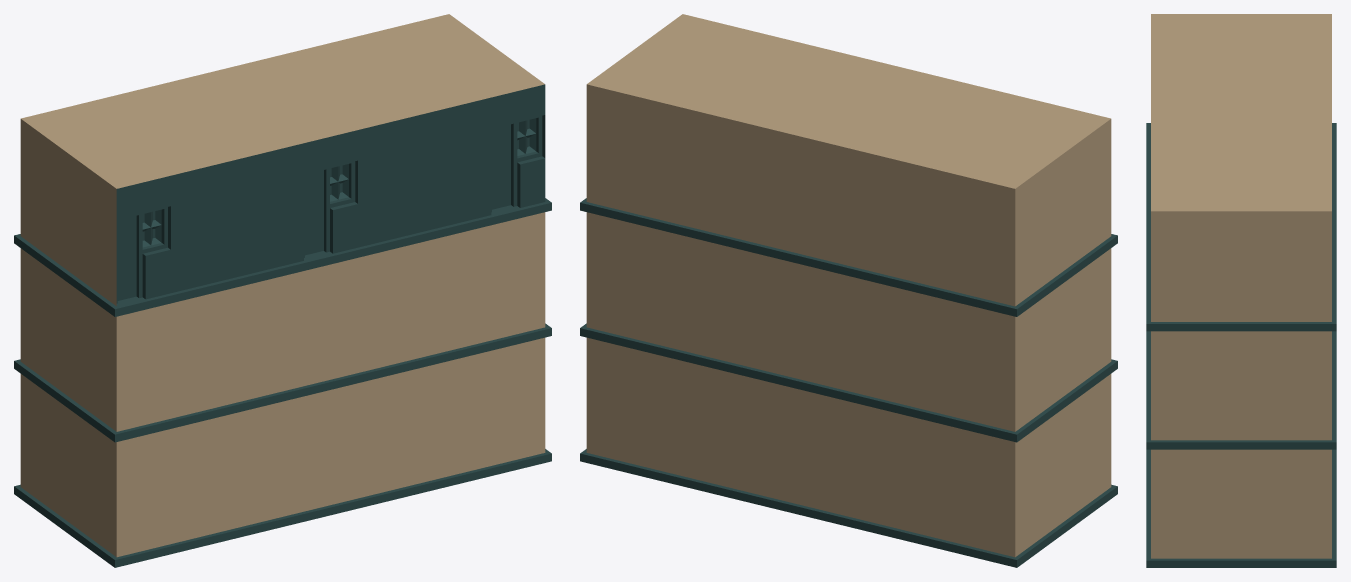
Rendered from NearFieldResidence_RealOpenings.obj.
3 renders of one model, left to right at view 1: azimuth 30°, elevation 25°; view 2: azimuth 150°, elevation 25°; view 3: azimuth 270°, elevation 25°, orthographic. The views are drawn at different scales.
Visible parts, largest first — view 1: NearFieldResidence_RealOpenings; view 2: NearFieldResidence_RealOpenings; view 3: NearFieldResidence_RealOpenings.
Part boxes in pixels (x1,y1,x2,y2): NearFieldResidence_RealOpenings: (14, 14, 551, 567); NearFieldResidence_RealOpenings: (580, 14, 1117, 567); NearFieldResidence_RealOpenings: (1146, 14, 1336, 567).
Bounding box in the file's own units: 10.5 × 8.64 × 4.2.
